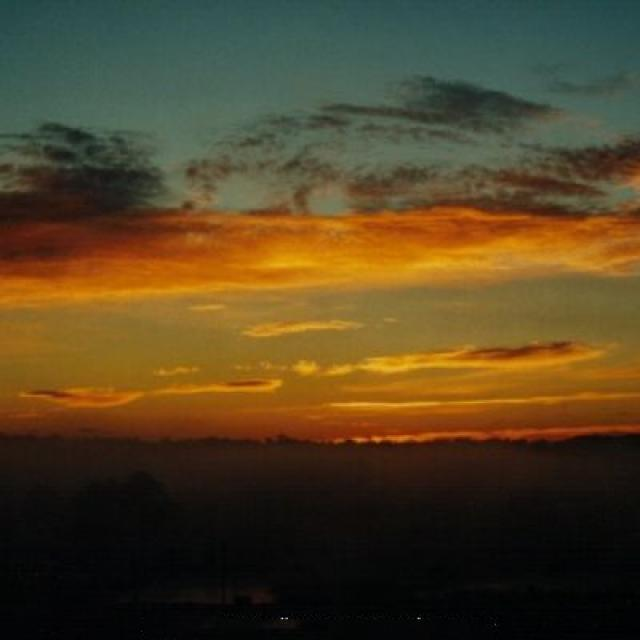As: (1, 86, 640, 415)
